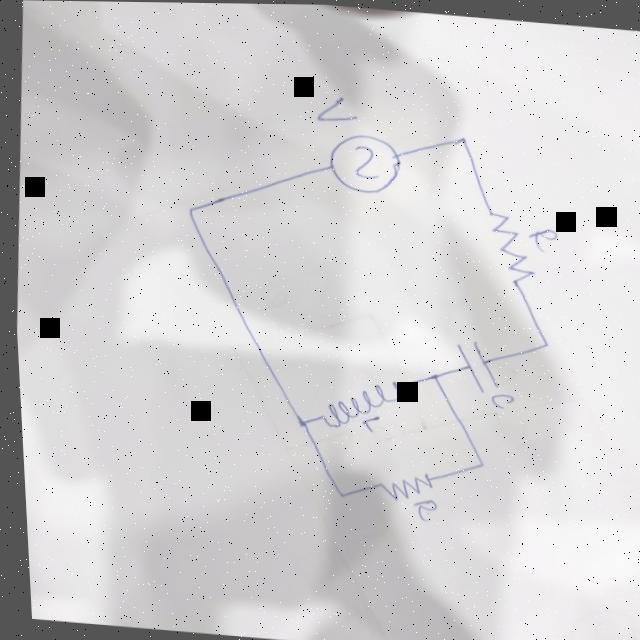capacitor: (448, 337, 499, 392)
inductor: (312, 371, 400, 432)
junction: (530, 334, 551, 349), (451, 132, 471, 147), (290, 412, 304, 428), (424, 369, 437, 381), (184, 204, 195, 215), (469, 457, 482, 466), (330, 488, 342, 497)
resistor: (479, 208, 538, 284), (372, 466, 429, 502)
source: (322, 130, 403, 195)
text: (312, 93, 359, 125), (522, 223, 558, 252), (404, 495, 435, 521), (484, 389, 511, 409), (356, 412, 377, 431)
